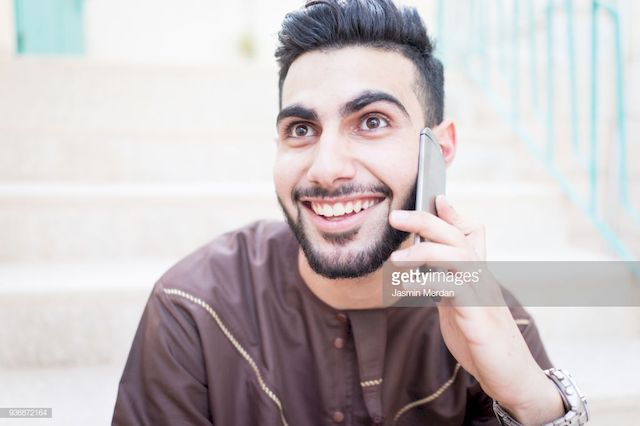phone: (410, 129, 459, 271)
talk: (271, 84, 497, 351)
